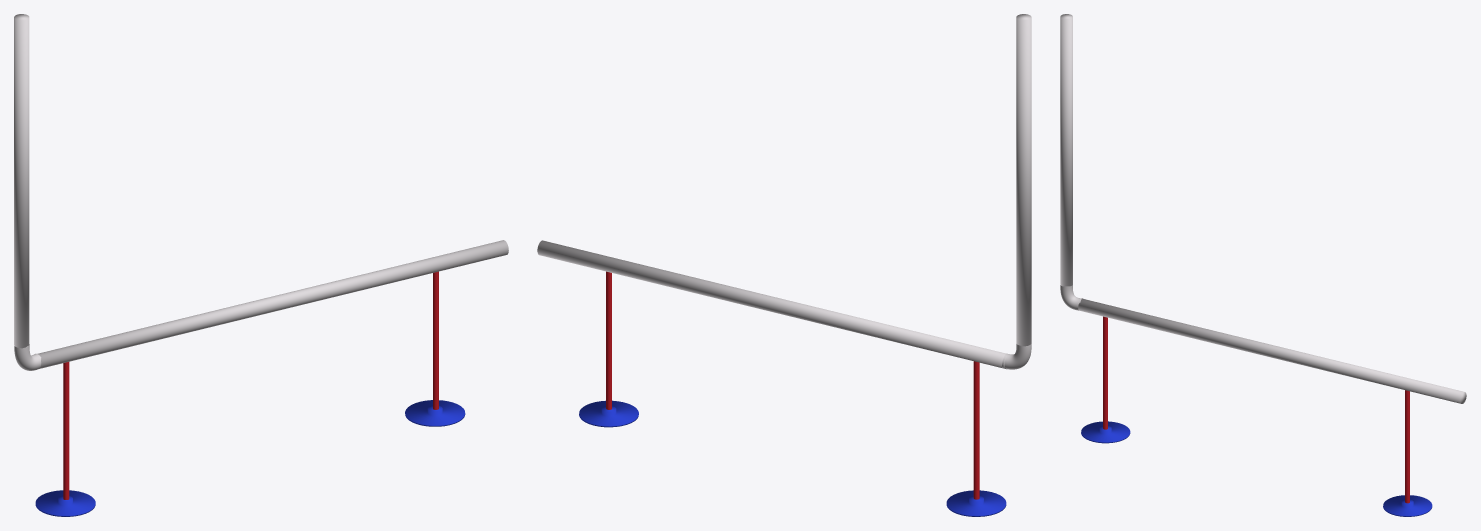
Rendered from L pipe.fbx.
The picture shows the model from 3 angles, left to right: view 1: azimuth 30°, elevation 25°; view 2: azimuth 150°, elevation 25°; view 3: azimuth 330°, elevation 25°; orthographic projection. The views are drawn at different scales.
Visible parts, largest first — view 1: Cylinder.001; view 2: Cylinder.001; view 3: Cylinder.001.
Part boxes in pixels (x1,y1,x2,y2): Cylinder.001: (14, 14, 508, 516); Cylinder.001: (537, 14, 1031, 516); Cylinder.001: (1060, 14, 1466, 516).
Size of the model in its own units: 188 by 183 by 20.
